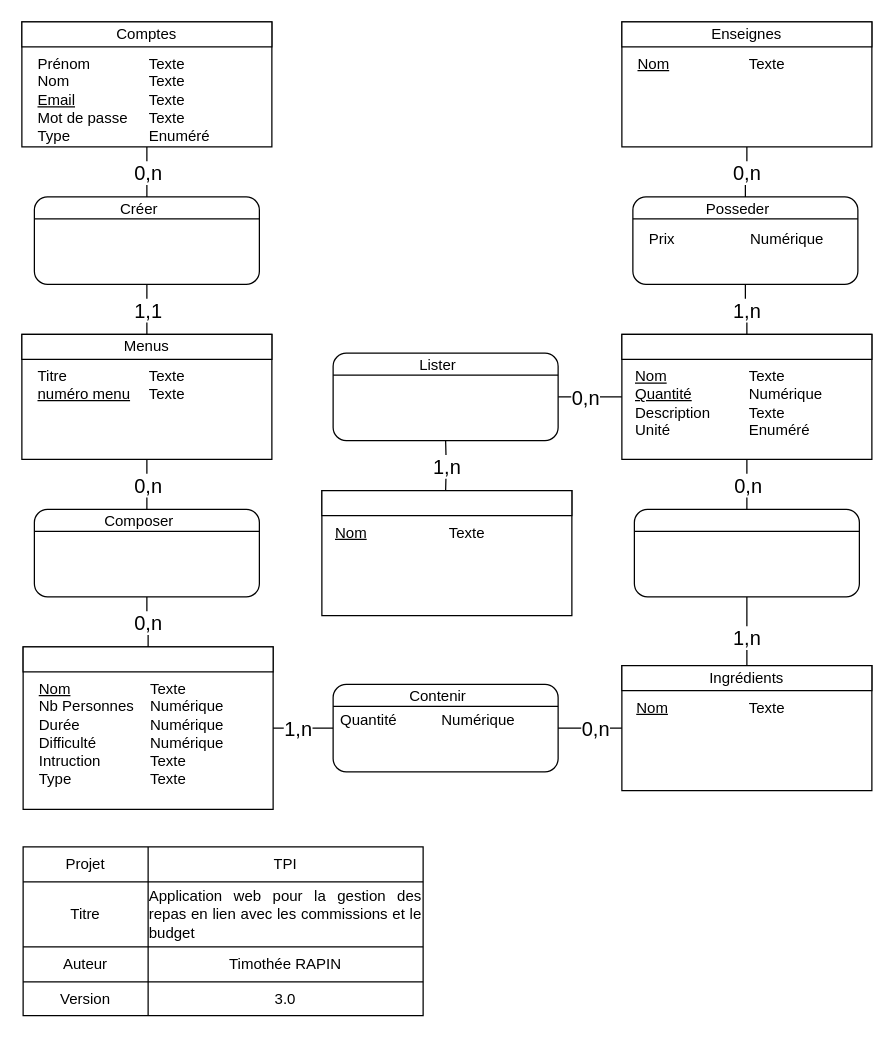
Some shapes in this 895 by 1038 pixel diagram are drawn without their labels. The centre of each missing label's shape, as x and y in pixels:
"Articles" belongs at (746,346).
"Listes de commissions" belongs at (446,502).
"Repas" belongs at (147,659).
"Utiliser" belongs at (746,552).
